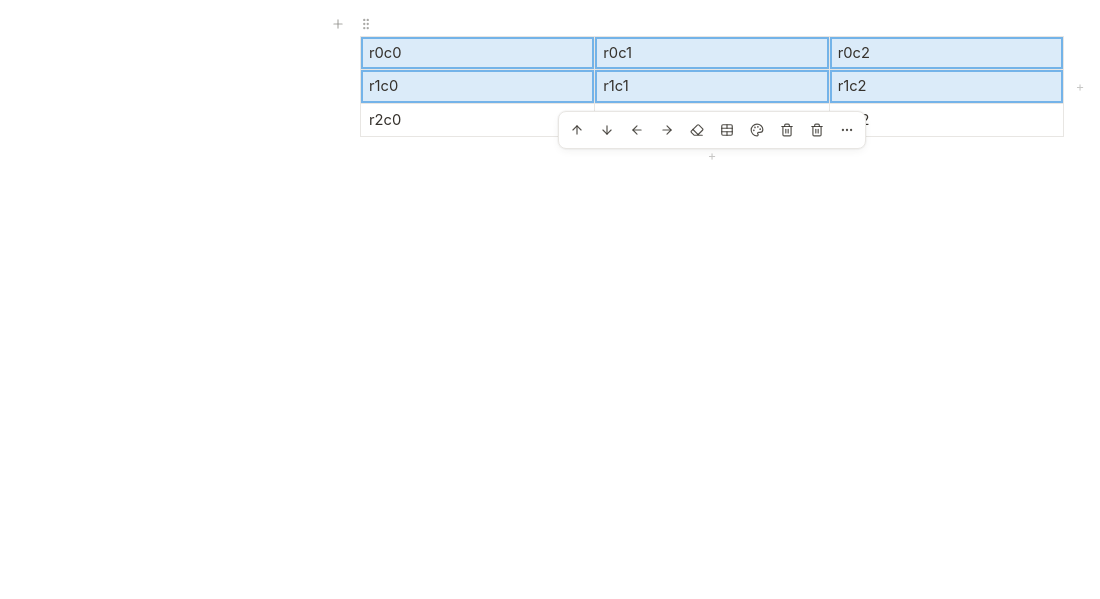
Test case: range-aware cell context menu (TBL-6) › a right-click OUTSIDE the rect collapses it and keeps the single-cell menu
Step 1. Press the mouse on the cell "r2c0" → (478, 120), box top-left (360, 103), bottom-right (595, 136)
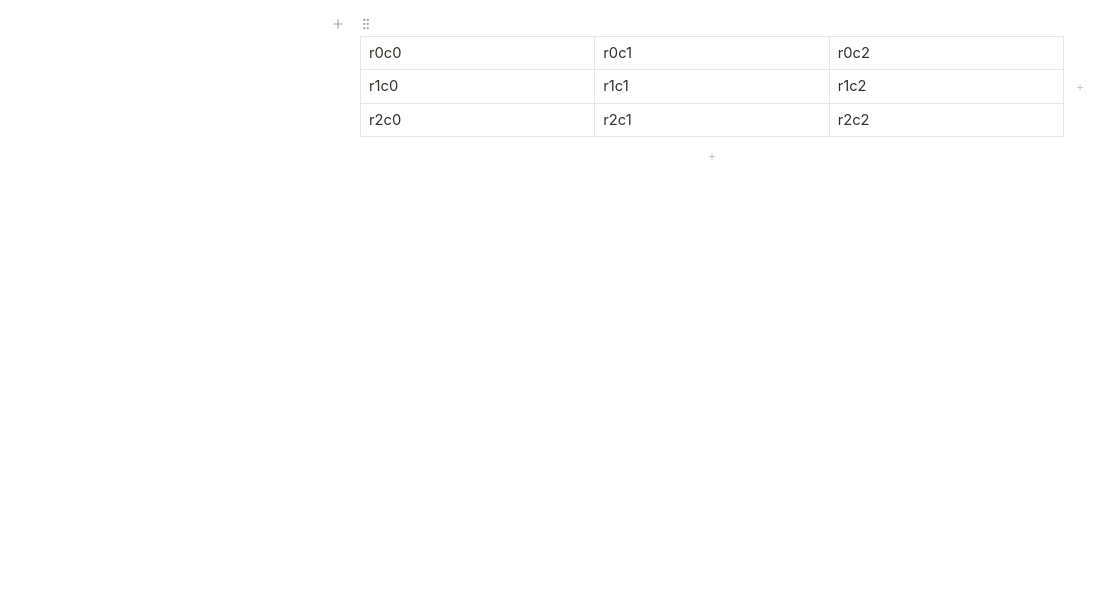
Step 2. Right-click the cell "r2c0" → (478, 120), box top-left (360, 103), bottom-right (595, 136)
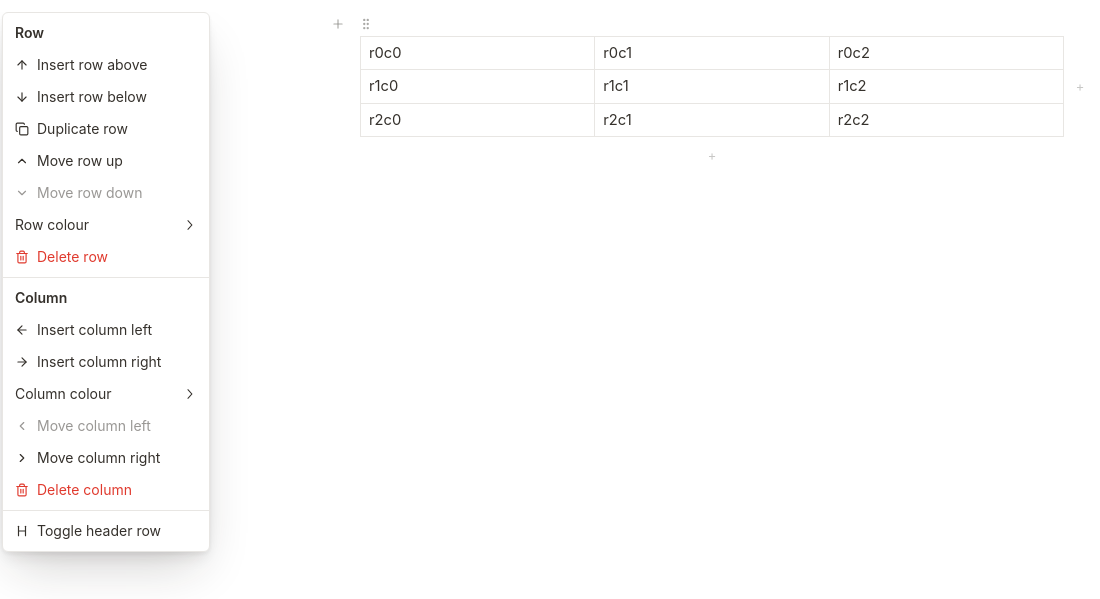
Now the menu item "Duplicate row" is shown, box top-left (15, 120), bottom-right (128, 137)
Now the menu item "Toggle header row" is shown, box top-left (15, 522), bottom-right (161, 539)
